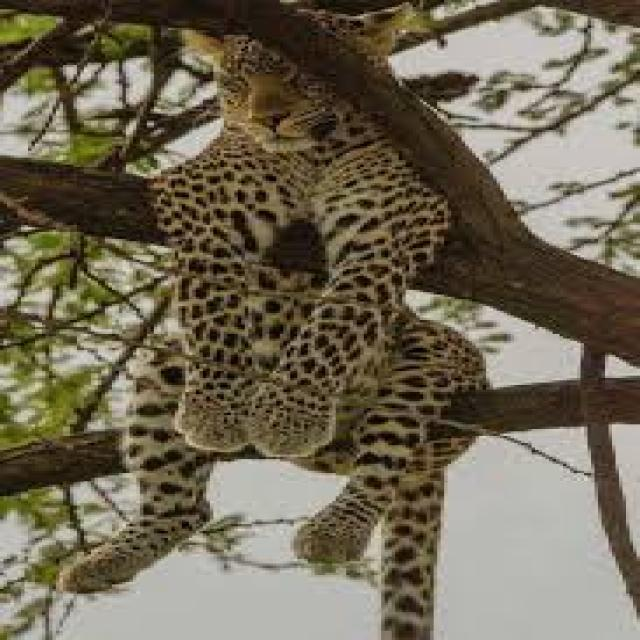Jaguar: (119, 19, 455, 626)
